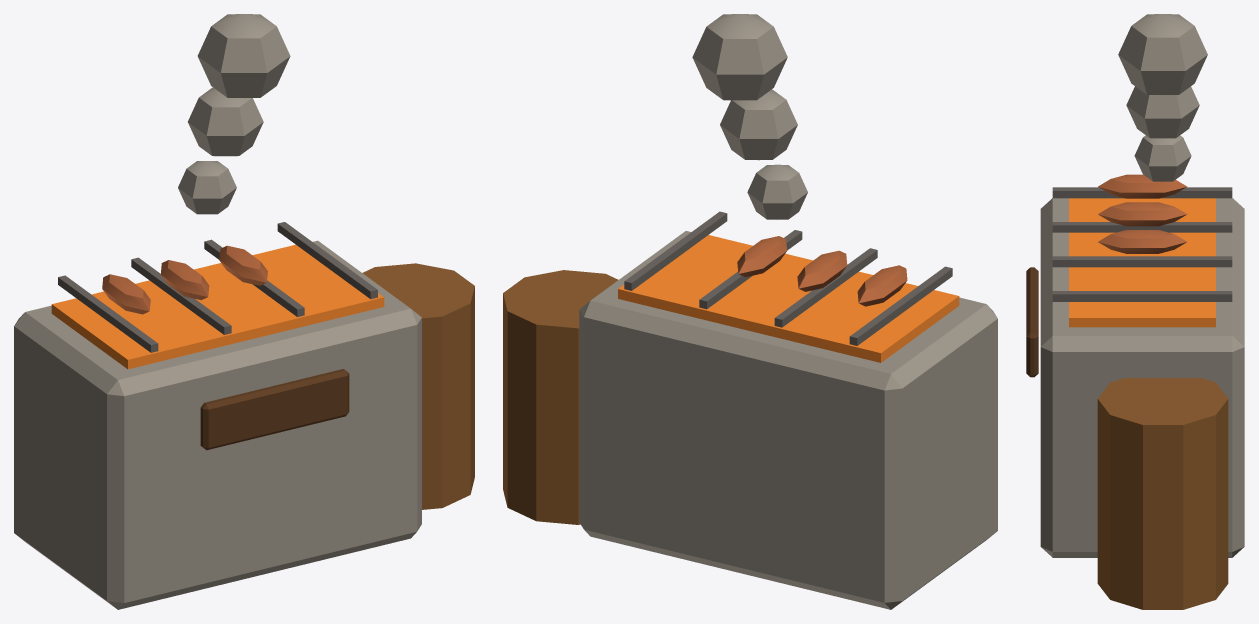
Rendered from PR_Station_Balik_T1.fbx.
The picture shows the model from 3 angles, left to right: view 1: azimuth 30°, elevation 25°; view 2: azimuth 150°, elevation 25°; view 3: azimuth 270°, elevation 25°; orthographic projection. The views are drawn at different scales.
Parts seen in each view (by area): view 1: PR_Station_Balik_T1; view 2: PR_Station_Balik_T1; view 3: PR_Station_Balik_T1.
Boxes of the visible parts, <box> form: PR_Station_Balik_T1: <box>14,14,474,609</box>; PR_Station_Balik_T1: <box>503,14,997,609</box>; PR_Station_Balik_T1: <box>1026,14,1244,609</box>.
Bounding box in the file's own units: 1.13 × 1.33 × 0.535.
